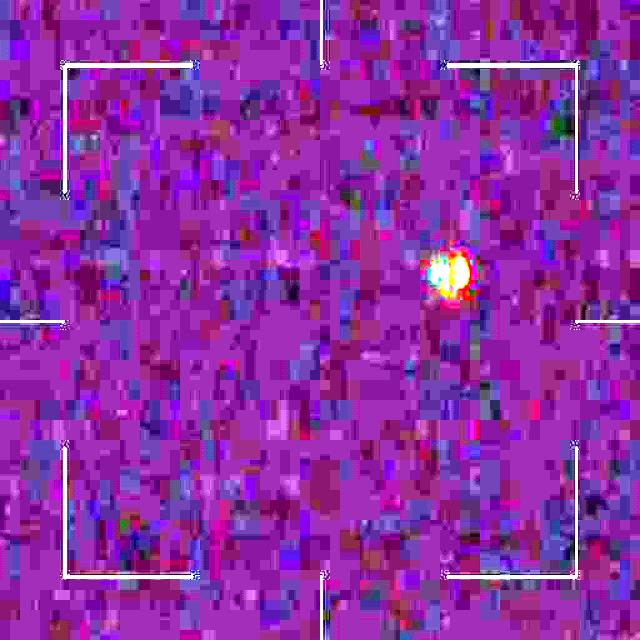bird: (436, 251, 472, 304)
